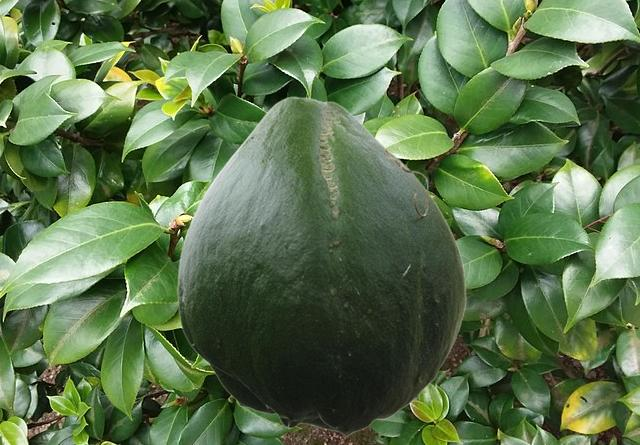sayote: (177, 96, 465, 436)
